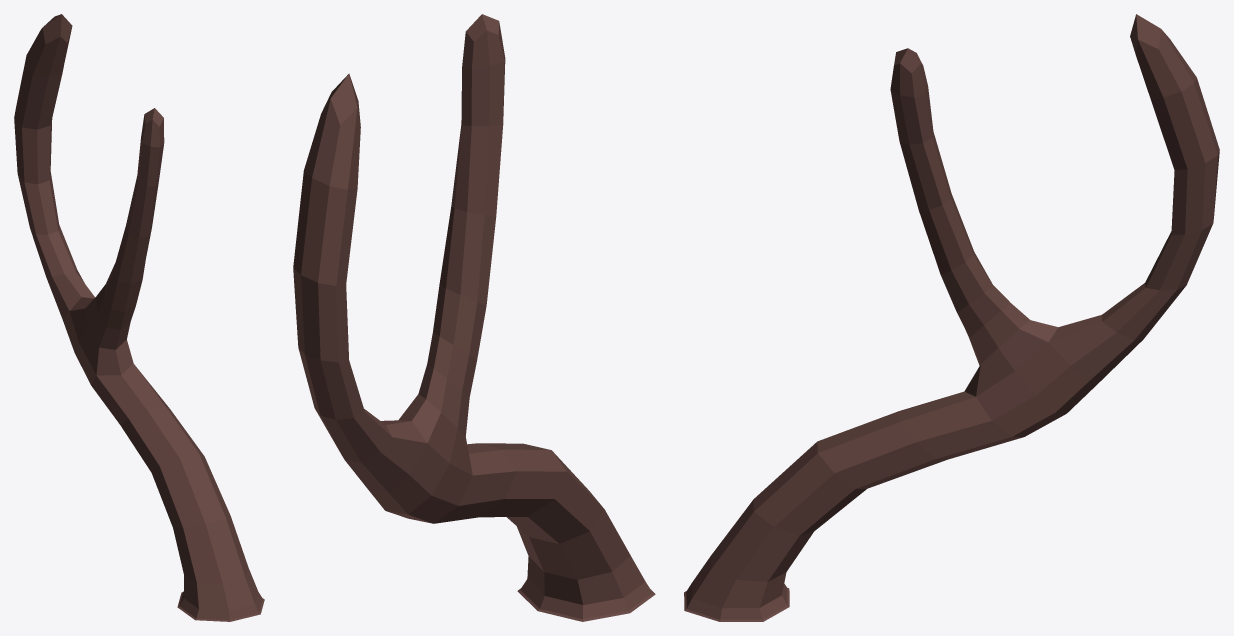
The model's file is Willow_Dead_3.glb.
3 views of the same model, side by side, from view 1: azimuth 30°, elevation 25°; view 2: azimuth 150°, elevation 25°; view 3: azimuth 270°, elevation 25° (orthographic). The views are drawn at different scales.
Visible parts, largest first — view 1: Willow_Dead_3; view 2: Willow_Dead_3; view 3: Willow_Dead_3.
Part boxes in pixels (<box>): Willow_Dead_3: <box>14,14,264,621</box>; Willow_Dead_3: <box>293,14,655,621</box>; Willow_Dead_3: <box>684,14,1219,621</box>.
Size of the model in its own units: 0.3108 by 1.91 by 1.58.
